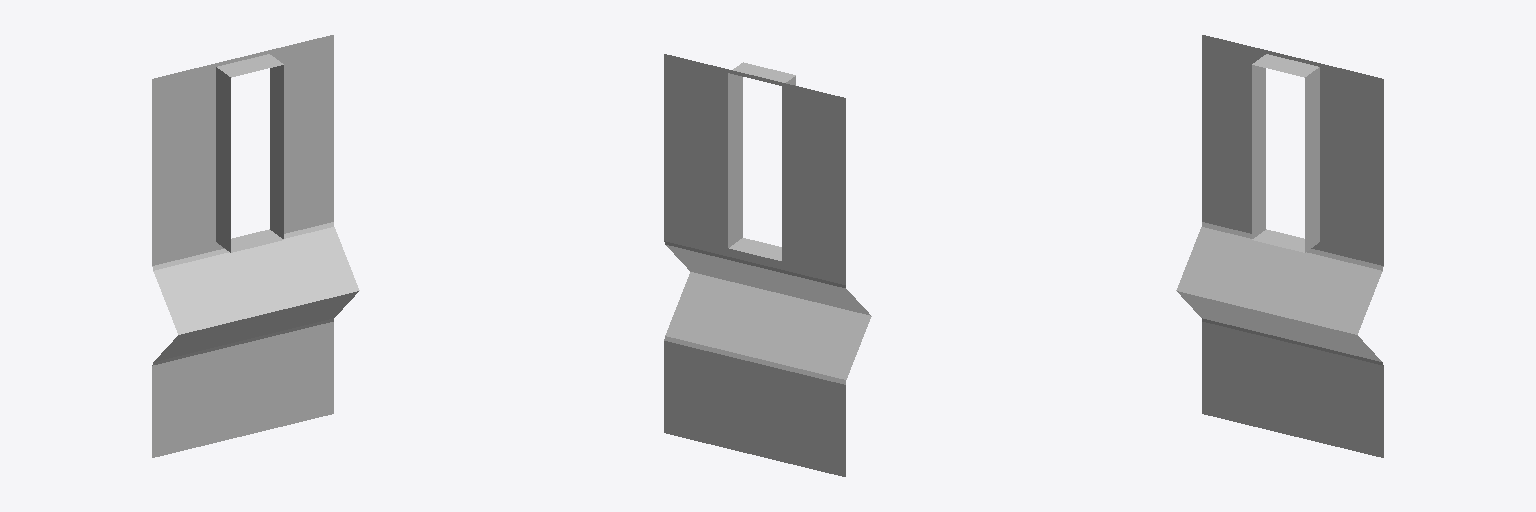
Rendered from wall_part_6.obj.
3 views of the same model, side by side, from view 1: azimuth 30°, elevation 25°; view 2: azimuth 150°, elevation 25°; view 3: azimuth 330°, elevation 25° (orthographic).
Visible parts, largest first — view 1: Cube.005_Cube.009; view 2: Cube.005_Cube.009; view 3: Cube.005_Cube.009.
Boxes of the visible parts, box(x1,y1,x2,y2) form: Cube.005_Cube.009: box(152, 35, 359, 457); Cube.005_Cube.009: box(664, 54, 871, 476); Cube.005_Cube.009: box(1176, 35, 1383, 457).
Bounding box in the file's own units: 4 × 8 × 1.